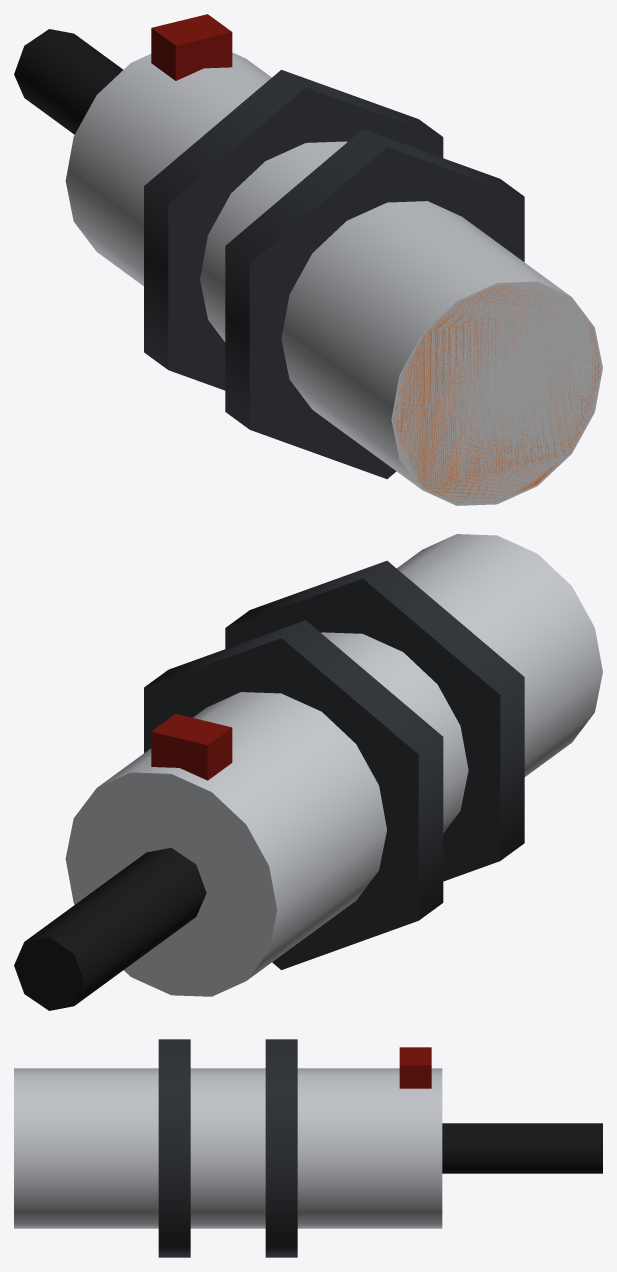
The model's file is capacitive_sensor.glb.
The picture shows the model from 3 angles, top to bottom: view 1: azimuth 30°, elevation 25°; view 2: azimuth 150°, elevation 25°; view 3: azimuth 270°, elevation 25°; orthographic projection. The views are drawn at different scales.
Visible parts, largest first — view 1: Sensor_Static, SensorLed; view 2: Sensor_Static, SensorLed; view 3: Sensor_Static, SensorLed.
Part boxes in pixels (<box>): Sensor_Static: <box>14,29,602,505</box>; SensorLed: <box>151,14,232,80</box>; Sensor_Static: <box>14,534,602,1010</box>; SensorLed: <box>151,714,232,780</box>; Sensor_Static: <box>14,1039,602,1257</box>; SensorLed: <box>399,1047,431,1088</box>.
Bounding box in the file's own units: 0.039 × 0.045 × 0.11.
